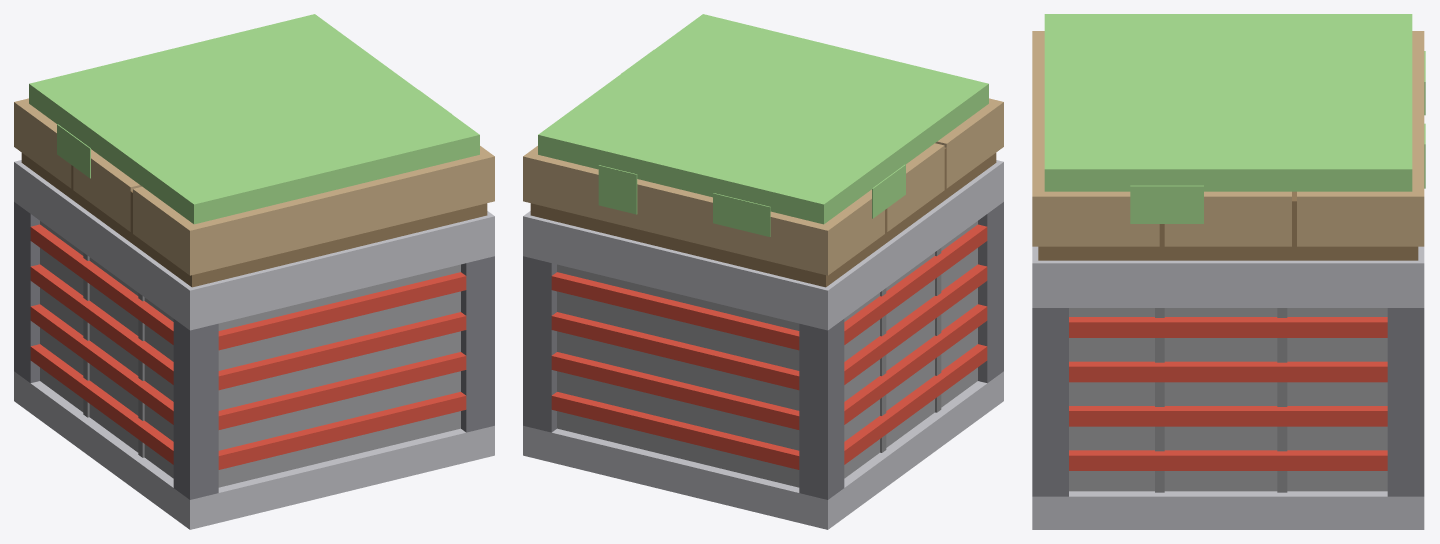
File: sticky_piston_4_held.gltf
The picture shows the model from 3 angles, left to right: view 1: azimuth 30°, elevation 25°; view 2: azimuth 150°, elevation 25°; view 3: azimuth 270°, elevation 25°; orthographic projection. The views are drawn at different scales.
Parts seen in each view (by area): view 1: cinnabar_sticky_piston_4_held; view 2: cinnabar_sticky_piston_4_held; view 3: cinnabar_sticky_piston_4_held.
Boxes of the visible parts, x1,y1,x2,y2 form: cinnabar_sticky_piston_4_held: (14, 14, 494, 529); cinnabar_sticky_piston_4_held: (523, 14, 1003, 529); cinnabar_sticky_piston_4_held: (1032, 14, 1425, 529).
Bounding box in the file's own units: 0.161 × 0.16 × 0.1605.
